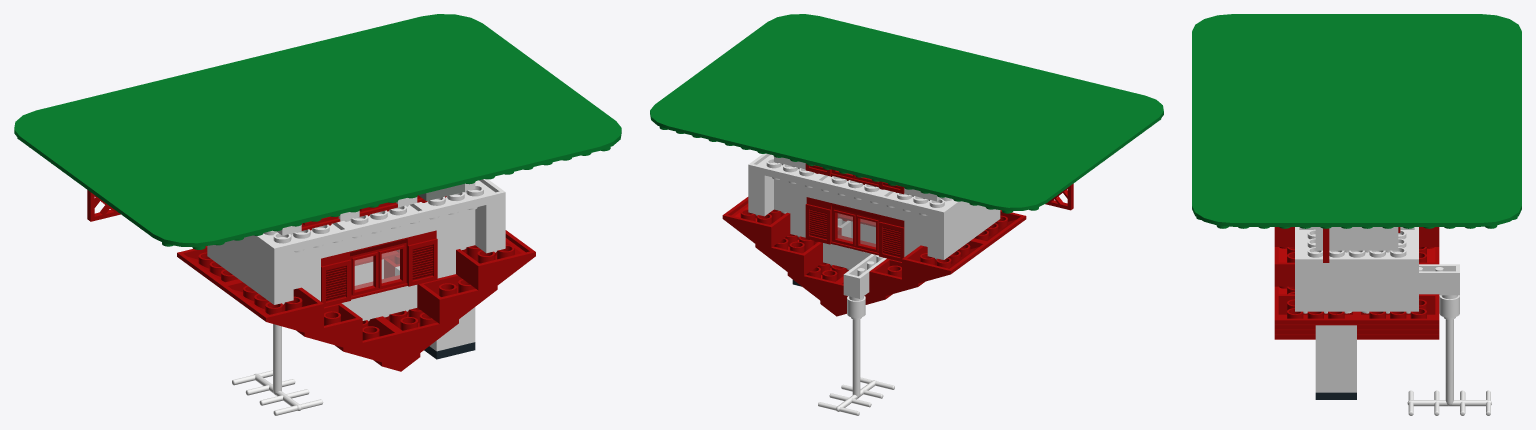
The picture shows the model from 3 angles, left to right: view 1: azimuth 30°, elevation 25°; view 2: azimuth 150°, elevation 25°; view 3: azimuth 270°, elevation 25°; orthographic projection. The views are drawn at different scales.
Size of the model in its own units: 480 by 303 by 320.
